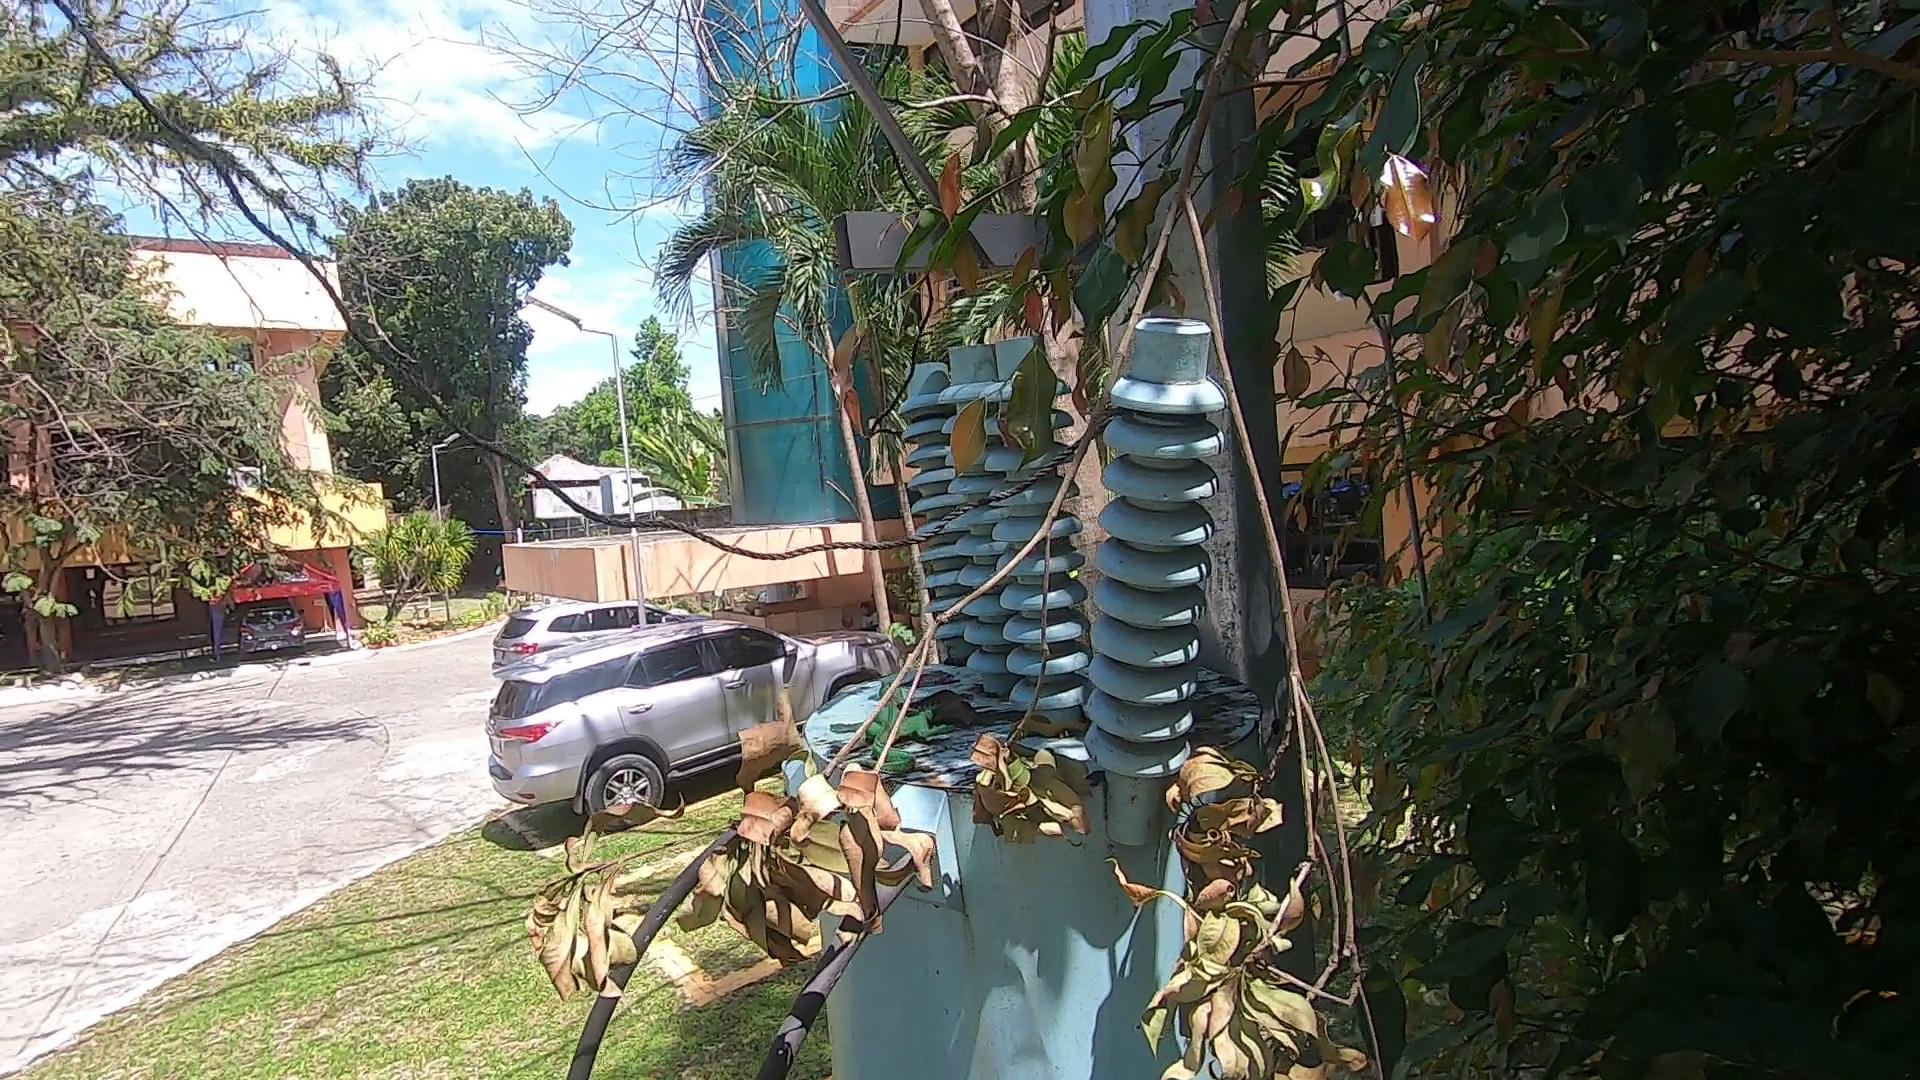branch with leaves: (525, 4, 1534, 1080)
leaf: (919, 694, 993, 738)
